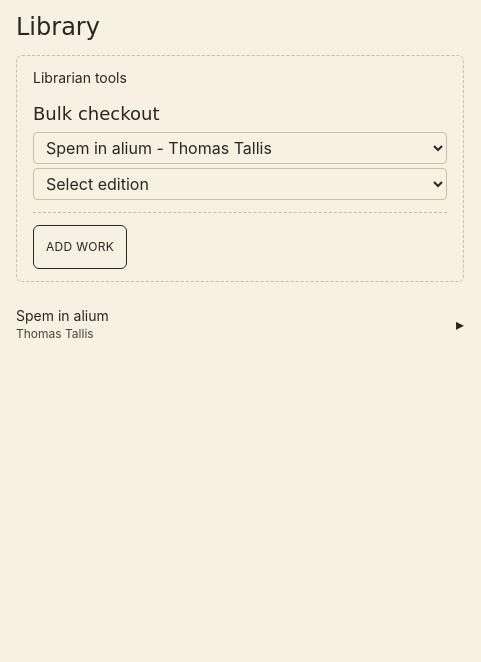
Test case: /library — copy list sort controls (#112/#88) › an unfolded edition shows three visible, labeled sort controls: nr / member / since
The width and height of the screenshot is (481, 662).
Expected: the list item with test id "library-work-work-1" is shown, [16,298,464,350]
Click the button with test id "library-work-toggle-work-1".
click(62, 316)  # box [16,306,464,342]
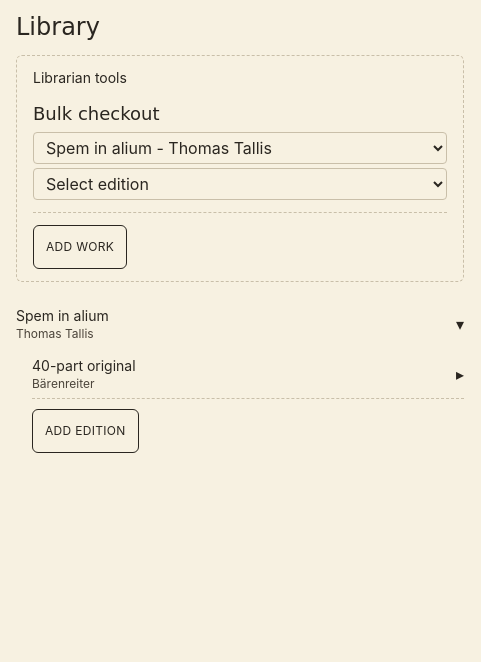
Expected: the element with test id "library-edition-edition-1" is shown, [32,350,464,399]
Click the button with test id "library-edition-toggle-edition-1".
click(84, 366)  # box [32,356,464,392]
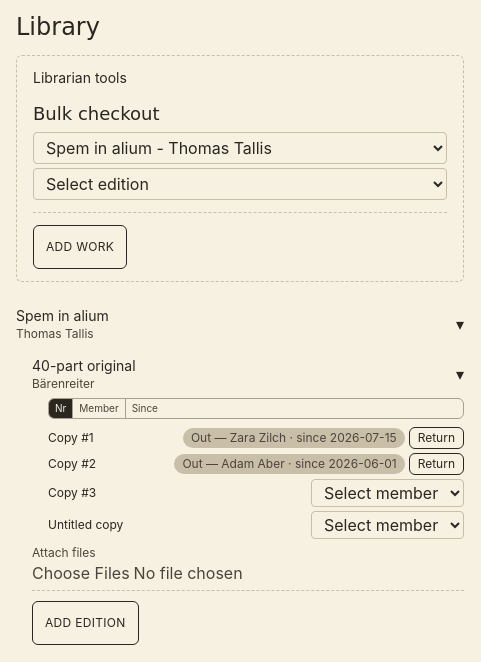
Expected: the element with test id "library-copy-copy-a" is shown, [48,479,464,507]
Expected: the button "Nr" is shown, [49,399,73,418]
Expected: the button "Member" is shown, [73,399,126,418]
